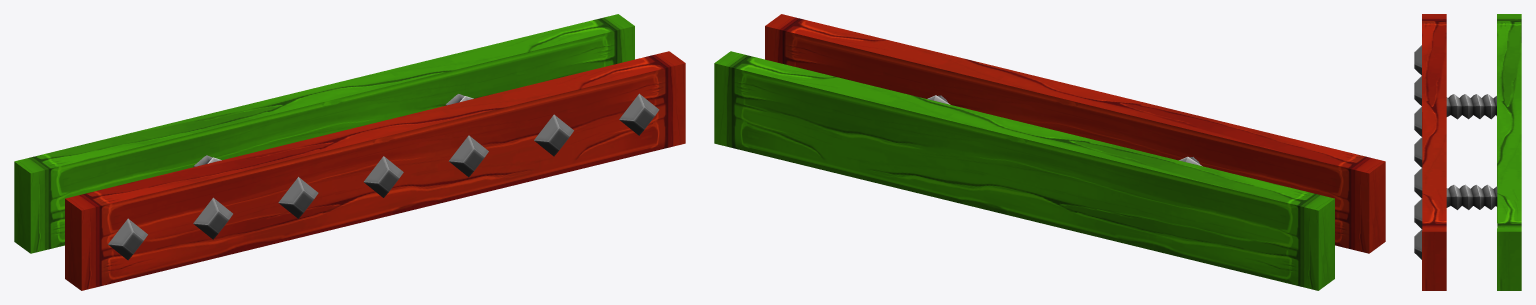
Rendered from fence_burger_04.fbx.
3 views of the same model, side by side, from view 1: azimuth 30°, elevation 25°; view 2: azimuth 150°, elevation 25°; view 3: azimuth 270°, elevation 25° (orthographic). The views are drawn at different scales.
Visible parts, largest first — view 1: front_wall_3, Back_wall_3; view 2: Back_wall_3, front_wall_3; view 3: front_wall_3, Back_wall_3, spring_1, spring_3.
Part boxes in pixels (<box>): front_wall_3: <box>65,51,685,290</box>; Back_wall_3: <box>14,14,634,253</box>; Back_wall_3: <box>714,51,1334,290</box>; front_wall_3: <box>765,14,1385,253</box>; front_wall_3: <box>1414,14,1446,290</box>; Back_wall_3: <box>1497,14,1521,290</box>; spring_1: <box>1446,184,1497,209</box>; spring_3: <box>1446,94,1496,119</box>.
Size of the model in its own units: 315 by 40 by 65.51.
